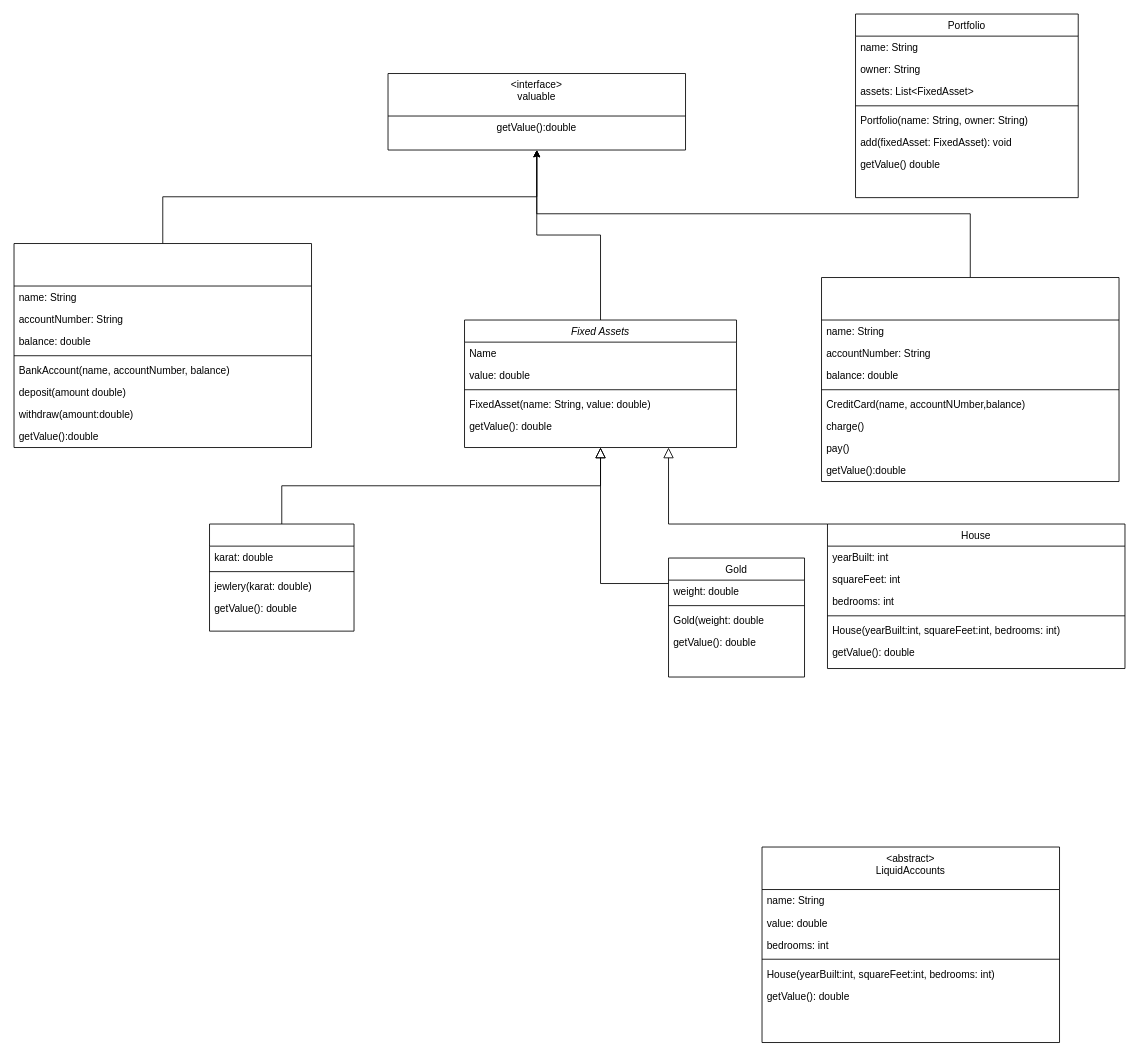
This 1139x1057 diagram has some shape labels left out. The box of each missing label's shape, as (x1, y1, x2, y2) in pixels:
Class Bank Account: (13, 243, 312, 448)
Class Credit Card: (821, 277, 1119, 482)
Jewelry: (209, 523, 354, 631)
